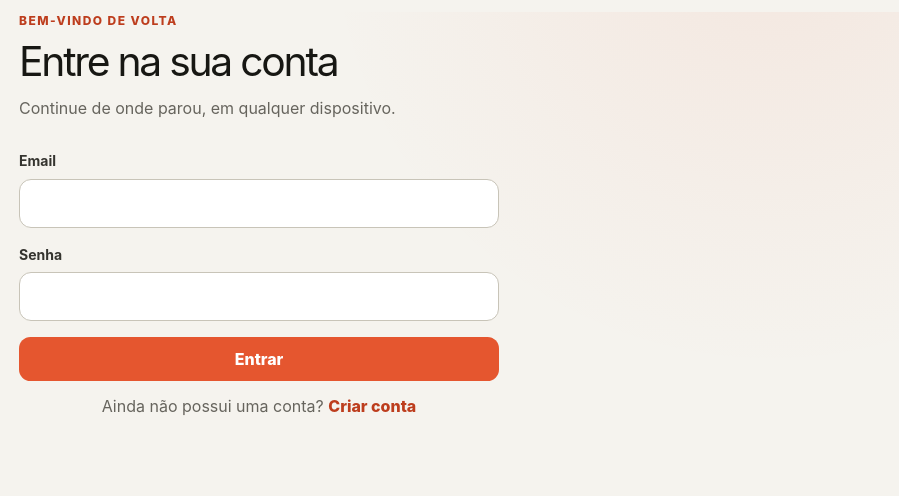
Test case: AuthForm › mostra credenciais inválidas sem recarregar a tela
Step 1. Type "kaue@example.com" into the field labelled "Email" → (259,203), box [19,179,499,228]
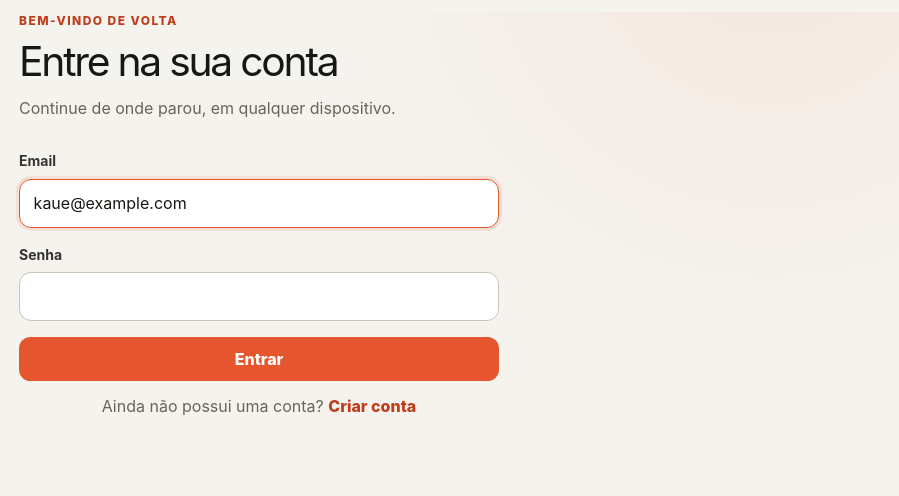
Step 2. Type "senha-incorreta" into the password field labelled "Senha" → (259,296), box [19,272,499,321]
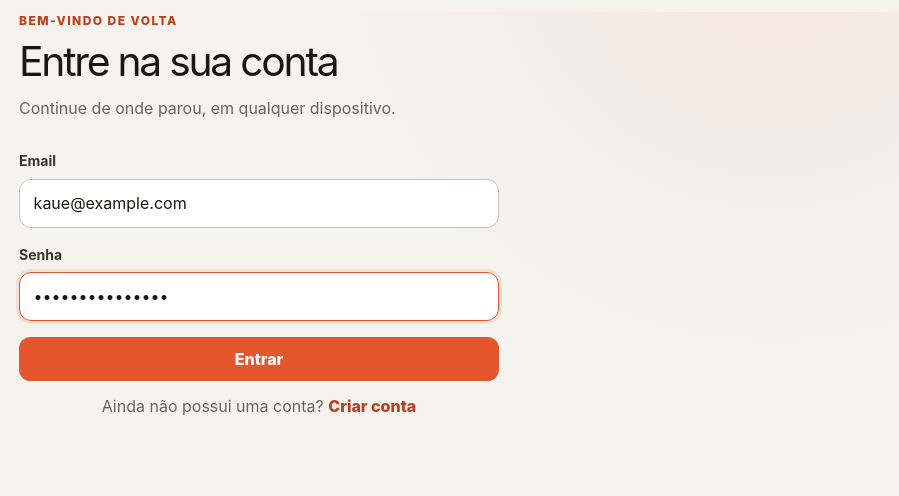
Step 3. Click the button "Entrar" → (259,359), box [19,337,499,381]
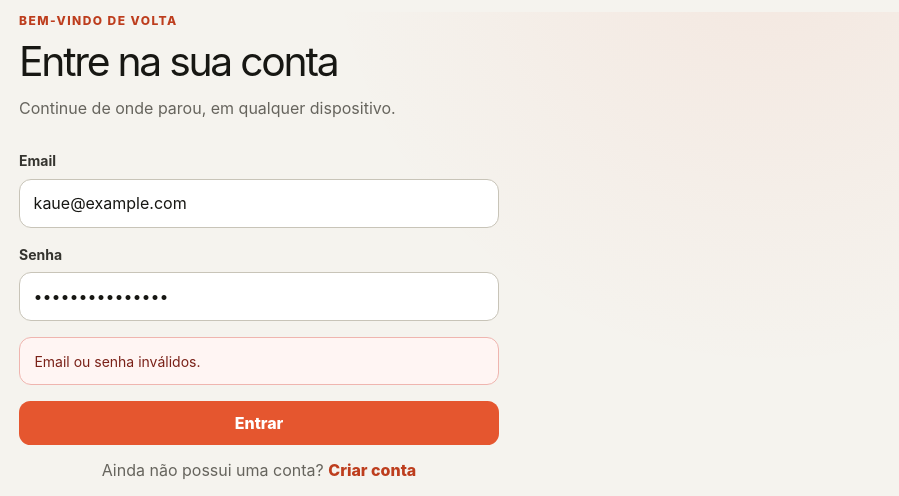
Expected: the message reads "Email ou senha inválidos.", [34,353,200,370]
